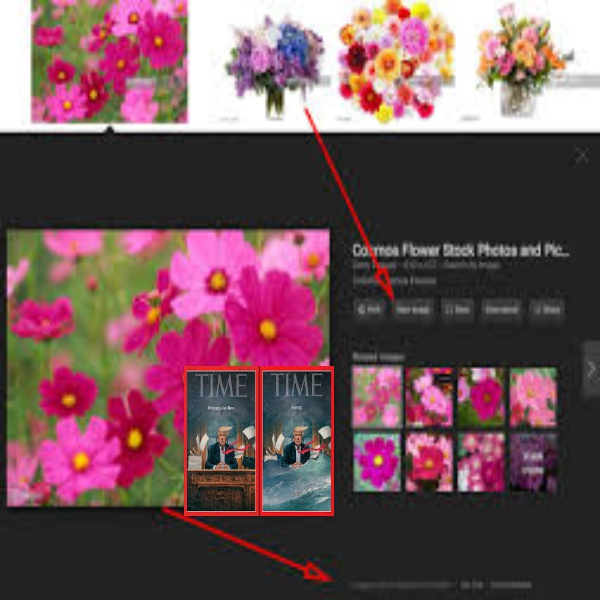time_cover: (260, 360, 337, 516), (181, 360, 250, 516)
